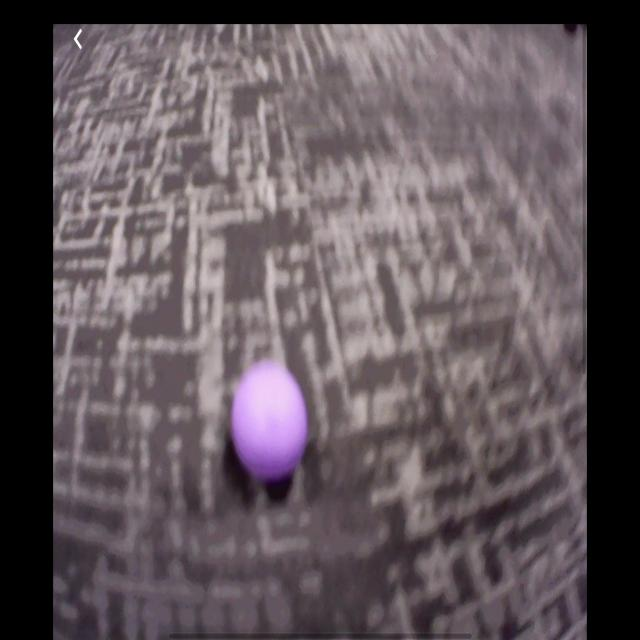ball: (234, 364, 306, 477)
